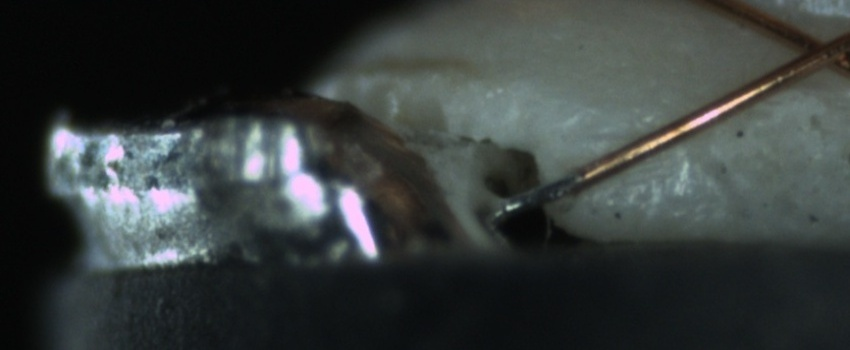CL: (777, 17, 849, 80)
DL: (566, 108, 663, 168)
TS: (494, 172, 580, 218)
